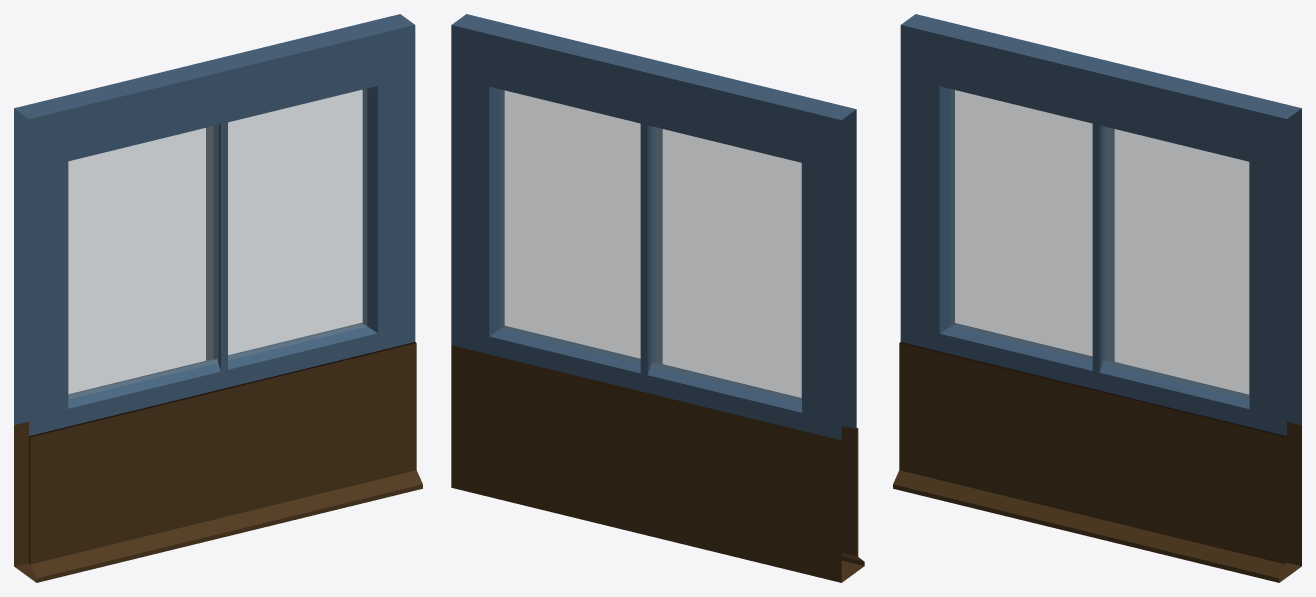
Rendered from Wall_Window.fbx.
3 views of the same model, side by side, from view 1: azimuth 30°, elevation 25°; view 2: azimuth 150°, elevation 25°; view 3: azimuth 330°, elevation 25° (orthographic).
Parts seen in each view (by area): view 1: pCube3; view 2: pCube3; view 3: pCube3.
Boxes of the visible parts, box(x1,y1,x2,y2) form: pCube3: box(14, 14, 422, 582); pCube3: box(451, 14, 864, 582); pCube3: box(893, 14, 1301, 582).
Bounding box in the file's own units: 15 × 17 × 1.52.
